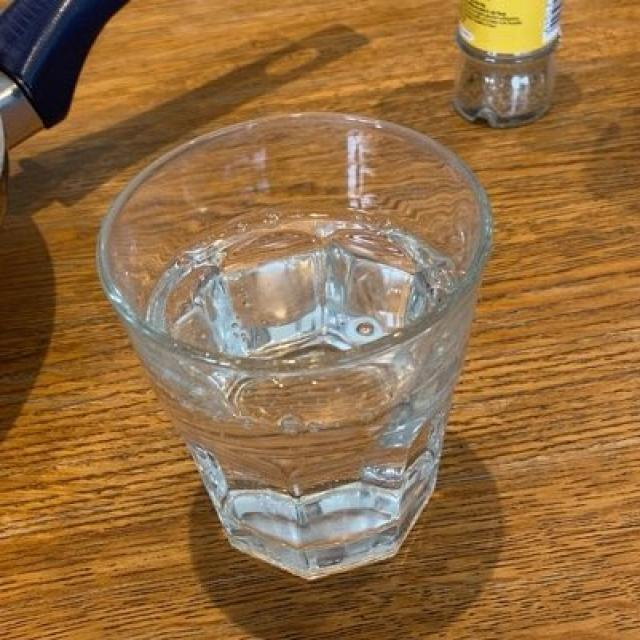water: (154, 208, 463, 564)
